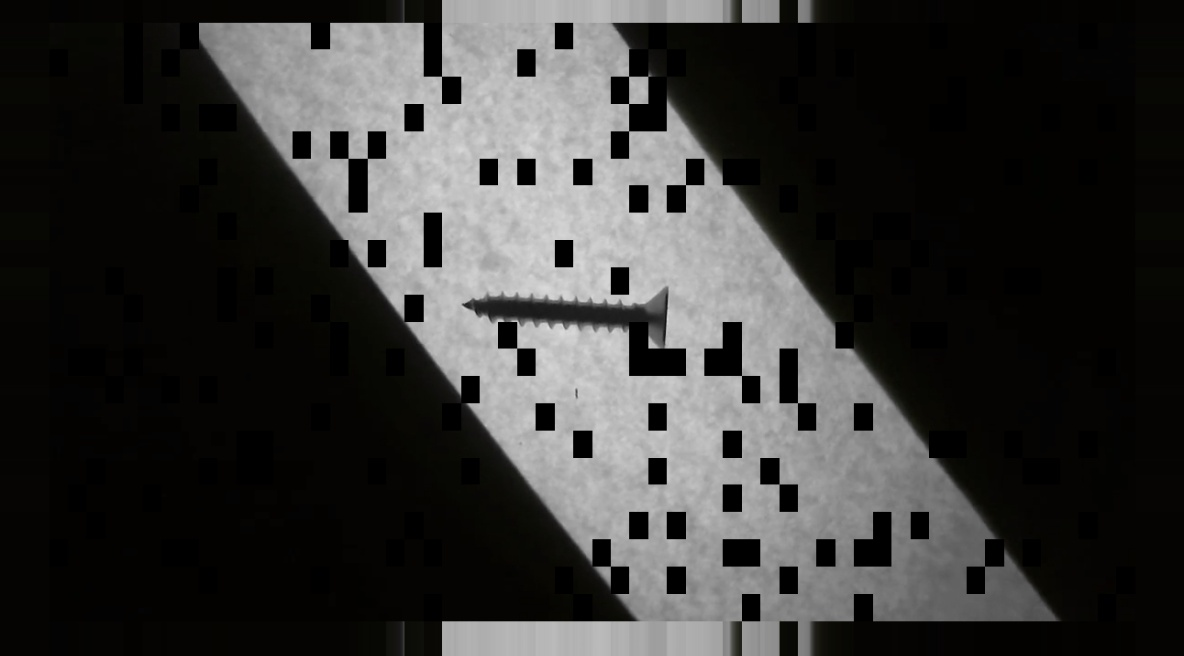S001: (440, 262, 691, 367)
